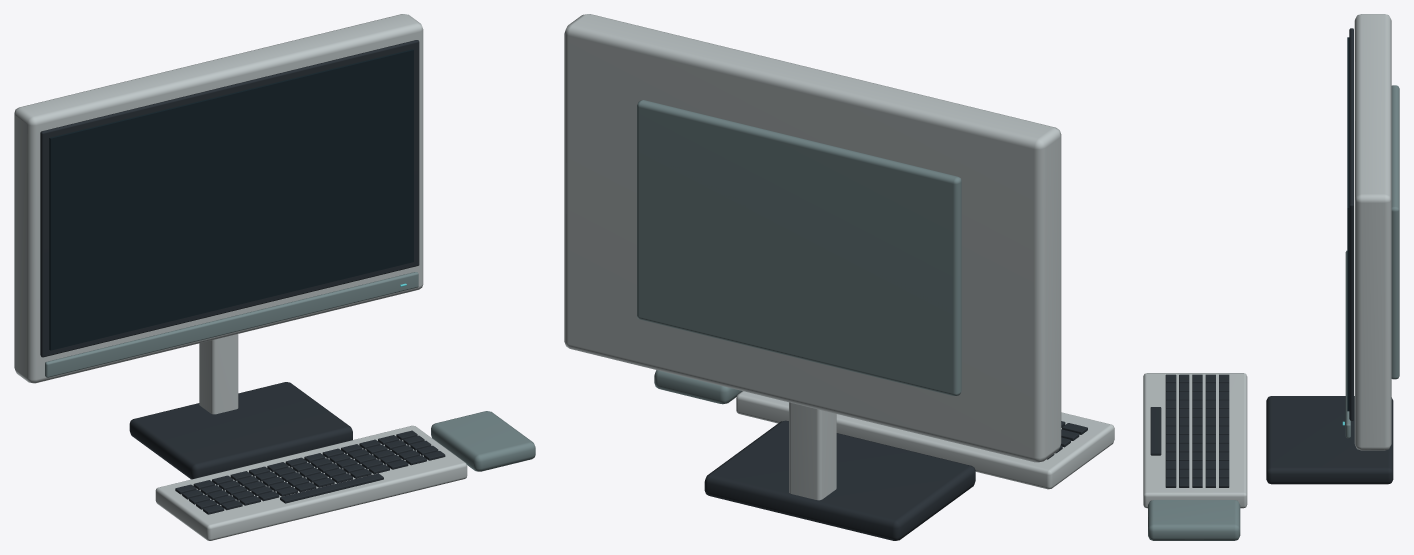
The model's file is HF_StudioConsole.fbx.
3 renders of one model, left to right at view 1: azimuth 30°, elevation 25°; view 2: azimuth 150°, elevation 25°; view 3: azimuth 270°, elevation 25°, orthographic. The views are drawn at different scales.
Visible parts, largest first — view 1: DisplayGlass.001, Chassis.001; view 2: Chassis.001; view 3: Chassis.001, DisplayGlass.001.
Boxes of the visible parts, x1=… form: DisplayGlass.001: x1=49, y1=49, x2=413, y2=350; Chassis.001: x1=14, y1=14, x2=535, y2=540; Chassis.001: x1=564, y1=14, x2=1114, y2=540; Chassis.001: x1=1143, y1=14, x2=1399, y2=540; DisplayGlass.001: x1=1347, y1=37, x2=1349, y2=411.
Size of the model in its own units: 76.8 by 65.8 by 44.4.
